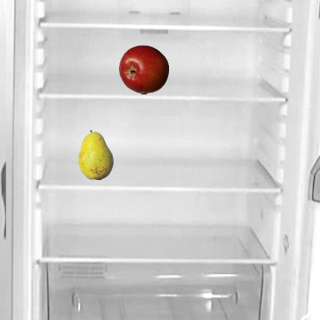Apple Braeburn: (118, 44, 168, 94)
Pear Monster: (70, 129, 120, 179)
